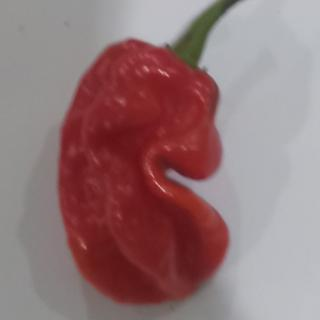Grade-A: (51, 32, 235, 308)
